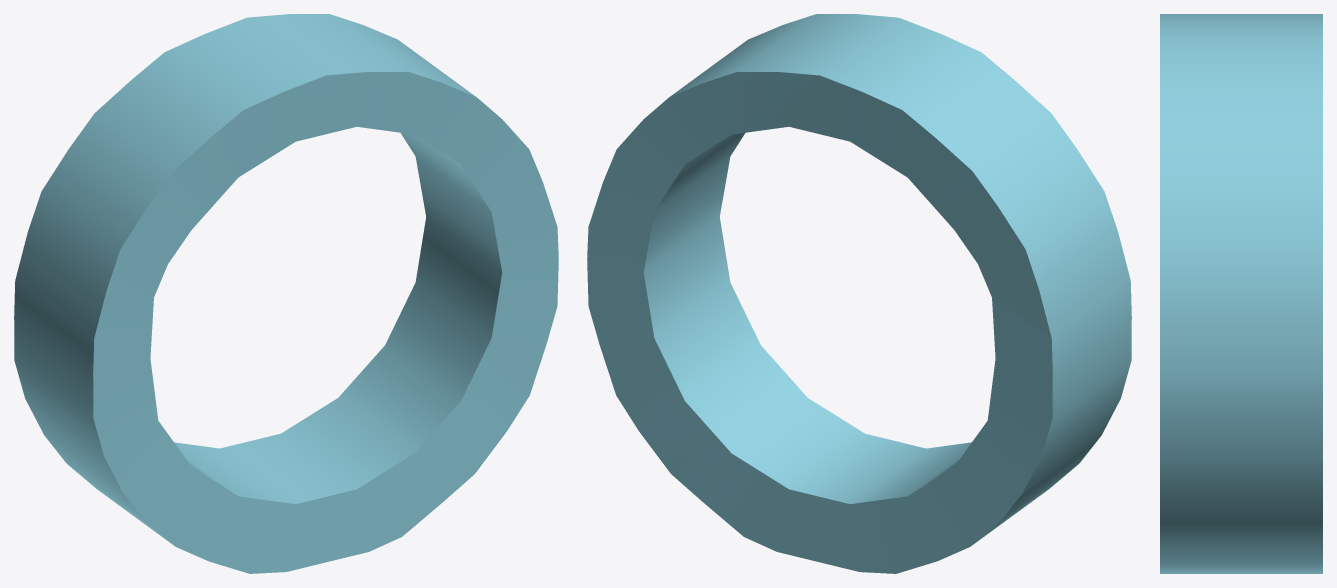
The model's file is rejilla2.fbx.
3 renders of one model, left to right at view 1: azimuth 30°, elevation 25°; view 2: azimuth 150°, elevation 25°; view 3: azimuth 270°, elevation 25°, orthographic. The views are drawn at different scales.
Parts seen in each view (by area): view 1: Cylinder012.001; view 2: Cylinder012.001; view 3: Cylinder012.001.
Boxes of the visible parts, x1,y1,x2,y2 form: Cylinder012.001: (14,14,558,573); Cylinder012.001: (587,14,1131,573); Cylinder012.001: (1160,14,1322,573).
Size of the model in its own units: 33.05 by 33.02 by 9.71.
